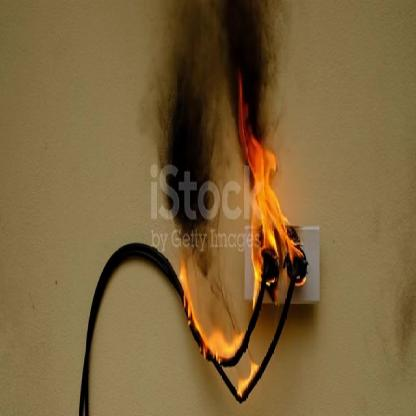fire: (173, 70, 318, 407)
